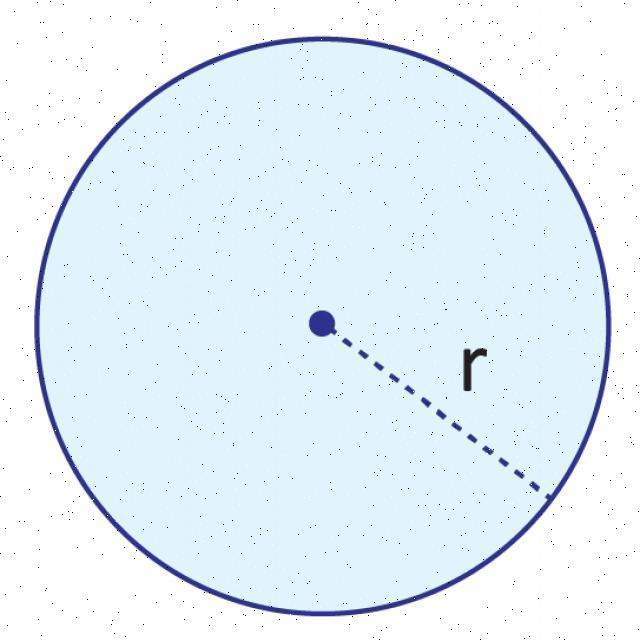Circle: (29, 33, 622, 620)
